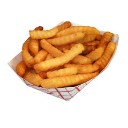frenchfries: (18, 19, 113, 84)
